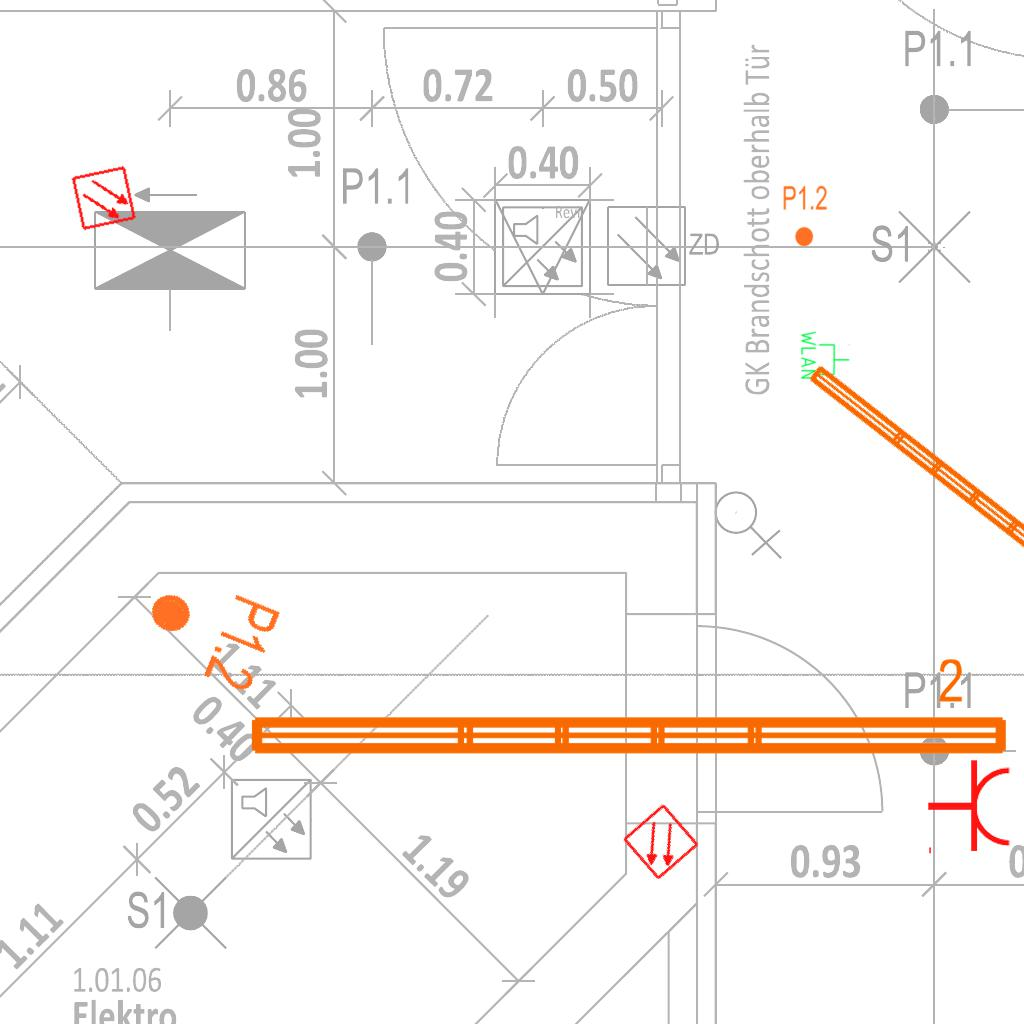Ambulanz_Pendelleuchte_LED: (241, 654, 1015, 766), (800, 336, 1024, 620)
Downlight_LED_Einbauleuchten_Flur: (131, 562, 286, 698), (782, 184, 828, 248)
RMO_Rauchmelder_optischer: (621, 802, 701, 882), (70, 164, 138, 232)
Schukosteckdose_einfach: (926, 758, 1013, 858)
WLAN: (799, 329, 851, 381)
